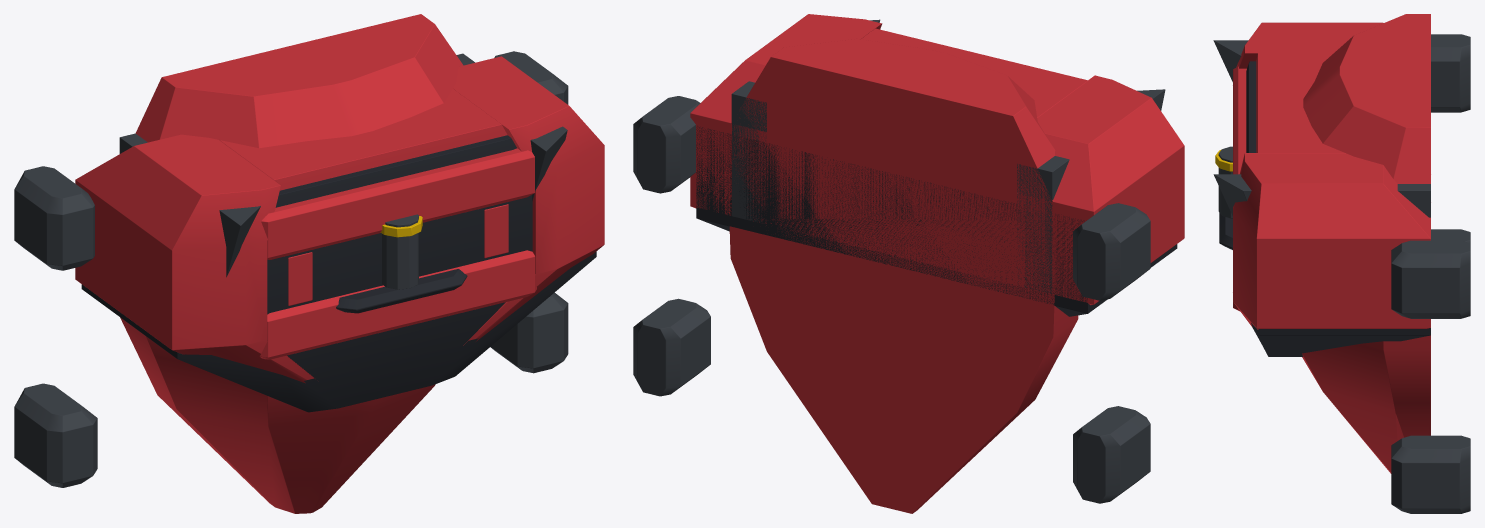
The model's file is UpperArmFront_Set08_Goliath.fbx.
3 views of the same model, side by side, from view 1: azimuth 30°, elevation 25°; view 2: azimuth 150°, elevation 25°; view 3: azimuth 270°, elevation 25° (orthographic). The views are drawn at different scales.
Parts seen in each view (by area): view 1: UpperArmFront_Set08_Goliath; view 2: UpperArmFront_Set08_Goliath; view 3: UpperArmFront_Set08_Goliath.
Boxes of the visible parts, box(x1,y1,x2,y2) form: UpperArmFront_Set08_Goliath: box(14, 14, 604, 513); UpperArmFront_Set08_Goliath: box(633, 14, 1184, 513); UpperArmFront_Set08_Goliath: box(1213, 14, 1470, 513).
Size of the model in its own units: 0.41 by 0.34 by 0.1948.
